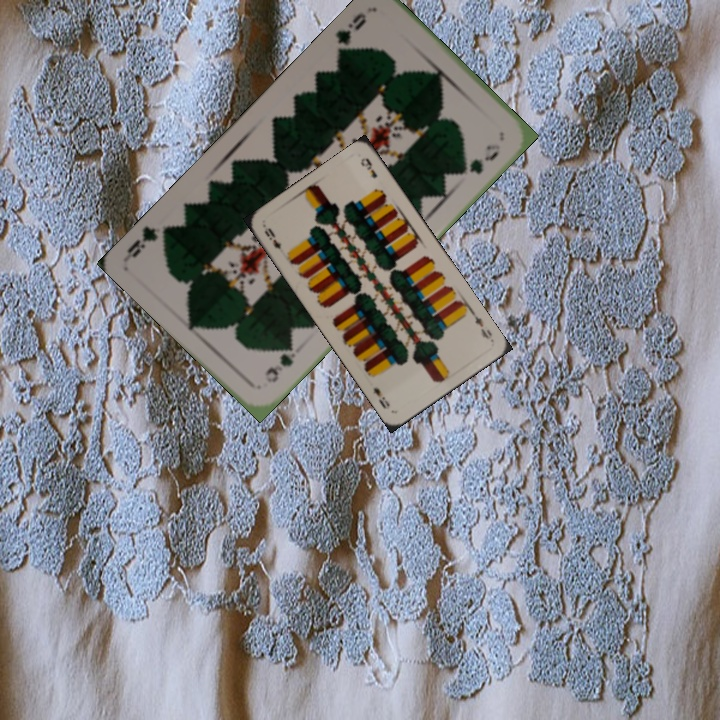E9: (467, 307, 496, 344), (260, 224, 284, 252)
G9: (331, 8, 369, 60), (261, 340, 299, 386)
